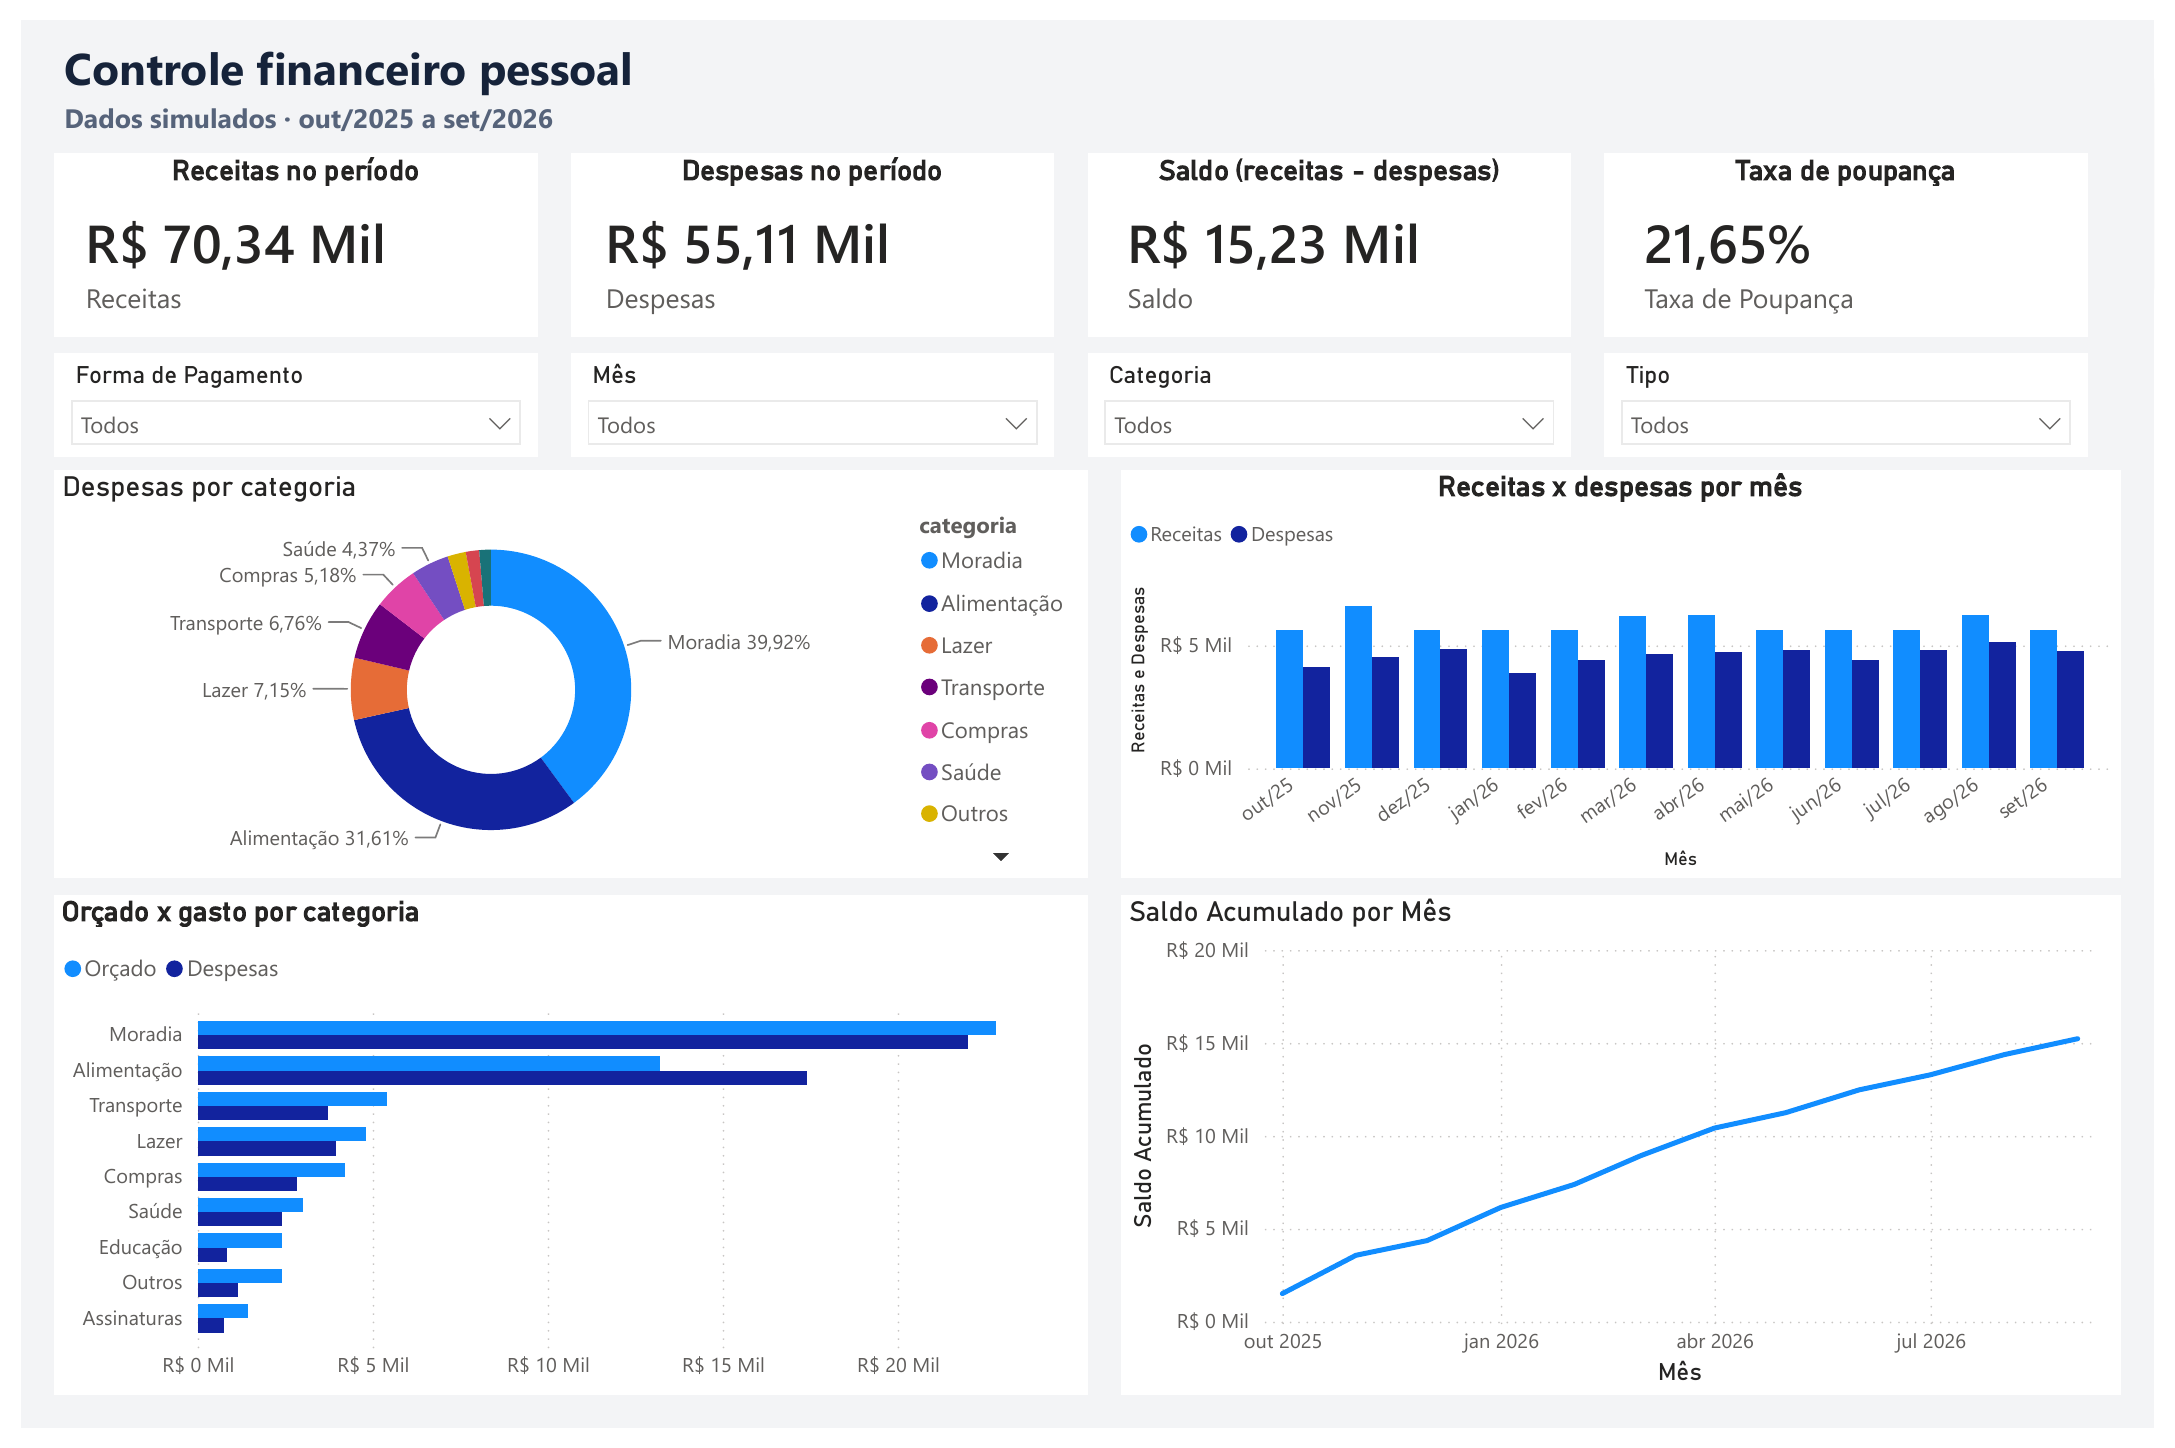

Layout of this report page (visuals, bound fields, positions):
{"tool":"powerbi","page":{"name":"Visão Geral","canvas":[1280,845],"ordinal":0},"visuals":[{"type":"cardVisual","title":"Receitas no período","fields":{"Data":["fato_lancamentos.Receitas"]},"box":[20,80,290,110],"z":0},{"type":"cardVisual","title":"\tDespesas no período","fields":{"Data":["fato_lancamentos.Despesas"]},"box":[330,80,290,110],"z":1000},{"type":"cardVisual","title":"\tSaldo (receitas − despesas)","fields":{"Data":["fato_lancamentos.Saldo"]},"box":[640,80,290,110],"z":2000},{"type":"cardVisual","title":"Taxa de poupança","fields":{"Data":["fato_lancamentos.Taxa de Poupança"]},"box":[950,80,290,110],"z":3000},{"type":"clusteredColumnChart","title":"Receitas x despesas por mês","fields":{"Y":["fato_lancamentos.Receitas","fato_lancamentos.Despesas"],"Category":["dim_calendario.Mês"]},"box":[660,270,600,245],"z":4000},{"type":"lineChart","fields":{"Category":["dim_calendario.Mês"],"Y":["fato_lancamentos.Saldo Acumulado"]},"box":[660,525,600,300],"z":5000},{"type":"donutChart","fields":{"Category":["dim_categorias.categoria"],"Y":["fato_lancamentos.Despesas"]},"box":[20,270,620,245],"z":6000},{"type":"clusteredBarChart","title":"Orçado x gasto por categoria","fields":{"Category":["dim_categorias.categoria"],"Y":["fato_lancamentos.Orçado","fato_lancamentos.Despesas"]},"box":[20,525,620,300],"z":7000},{"type":"slicer","fields":{"Values":["dim_calendario.Mês"]},"box":[330,200,290,62],"z":8000},{"type":"slicer","title":"Categoria","fields":{"Values":["dim_categorias.categoria"]},"box":[640,200,290,62],"z":9000},{"type":"slicer","title":"Forma de Pagamento","fields":{"Values":["fato_lancamentos.forma_pagamento"]},"box":[20,200,290,62],"z":10000},{"type":"slicer","title":"Tipo","fields":{"Values":["fato_lancamentos.tipo"]},"box":[950,200,290,62],"z":11000},{"type":"textbox","box":[20.6,5.5,370.5,46.7],"z":12000},{"type":"textbox","box":[20.6,42.5,699.8,35.7],"z":13000}]}

Visuals, with their boxes in screenshot pixels (x1, y1, x2, y2), scaled from the page's 1280x845 canvas onto the 2175x1448 screenshot:
"Receitas no período" cardVisual: [x1=34, y1=137, x2=527, y2=326]
"	Despesas no período" cardVisual: [x1=561, y1=137, x2=1054, y2=326]
"	Saldo (receitas − despesas)" cardVisual: [x1=1088, y1=137, x2=1580, y2=326]
"Taxa de poupança" cardVisual: [x1=1614, y1=137, x2=2107, y2=326]
"Receitas x despesas por mês" clusteredColumnChart: [x1=1121, y1=463, x2=2141, y2=883]
lineChart - dim_calendario.Mês x fato_lancamentos.Saldo Acumulado: [x1=1121, y1=900, x2=2141, y2=1414]
donutChart - dim_categorias.categoria x fato_lancamentos.Despesas: [x1=34, y1=463, x2=1088, y2=883]
"Orçado x gasto por categoria" clusteredBarChart: [x1=34, y1=900, x2=1088, y2=1414]
slicer - dim_calendario.Mês: [x1=561, y1=343, x2=1054, y2=449]
"Categoria" slicer: [x1=1088, y1=343, x2=1580, y2=449]
"Forma de Pagamento" slicer: [x1=34, y1=343, x2=527, y2=449]
"Tipo" slicer: [x1=1614, y1=343, x2=2107, y2=449]
textbox: [x1=35, y1=9, x2=665, y2=89]
textbox: [x1=35, y1=73, x2=1224, y2=134]
